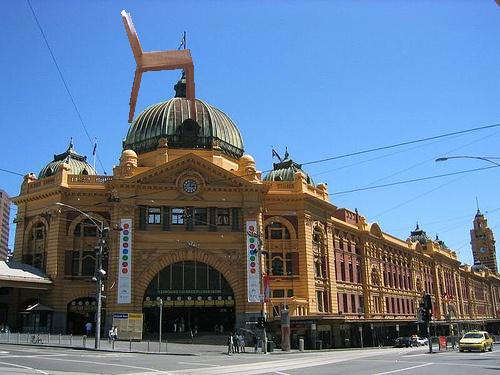tampered: (122, 11, 195, 123)
